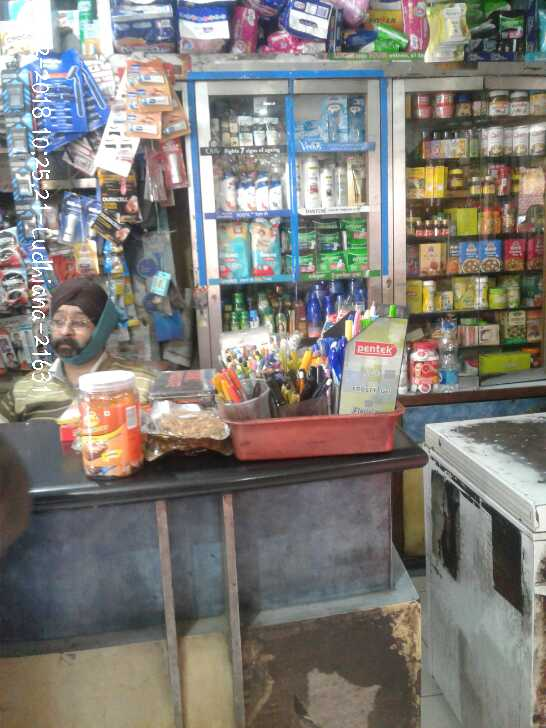gillete: (25, 43, 81, 131), (58, 196, 82, 241), (83, 198, 99, 239)
venus: (326, 94, 350, 141), (350, 98, 366, 141), (300, 117, 324, 141)
